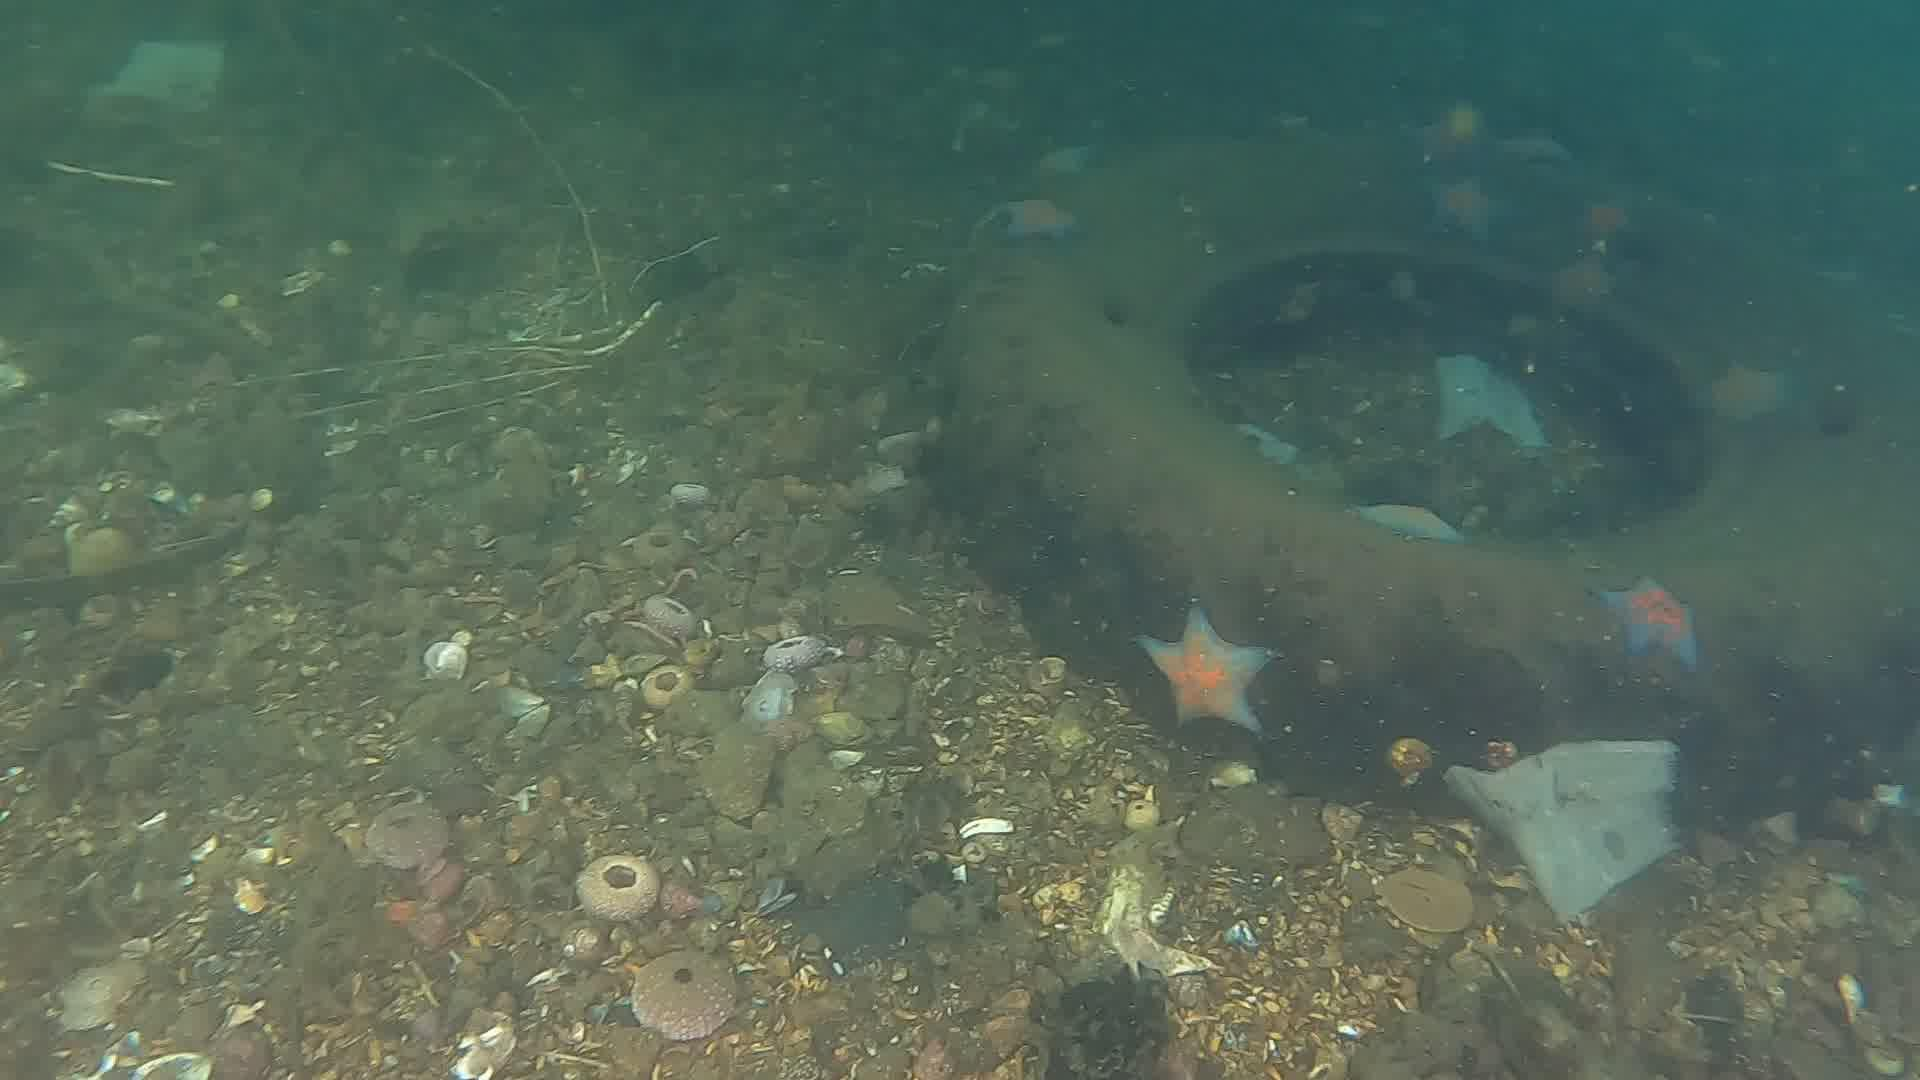tire: (930, 88, 1920, 827)
